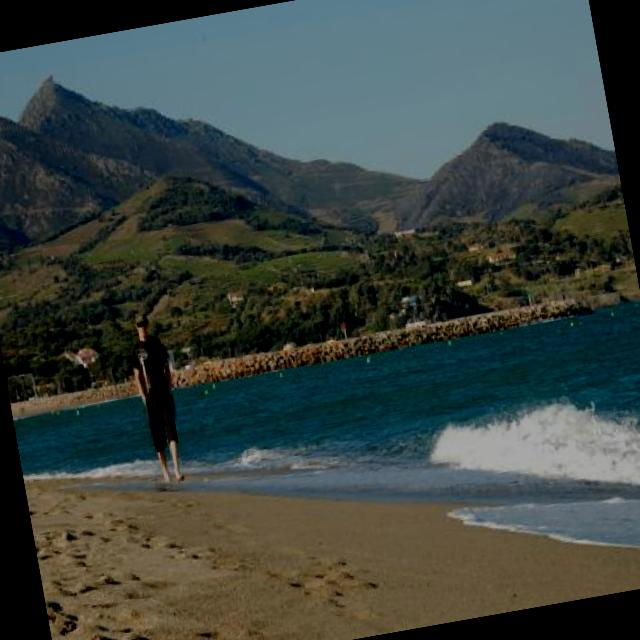Person: (115, 307, 189, 488)
